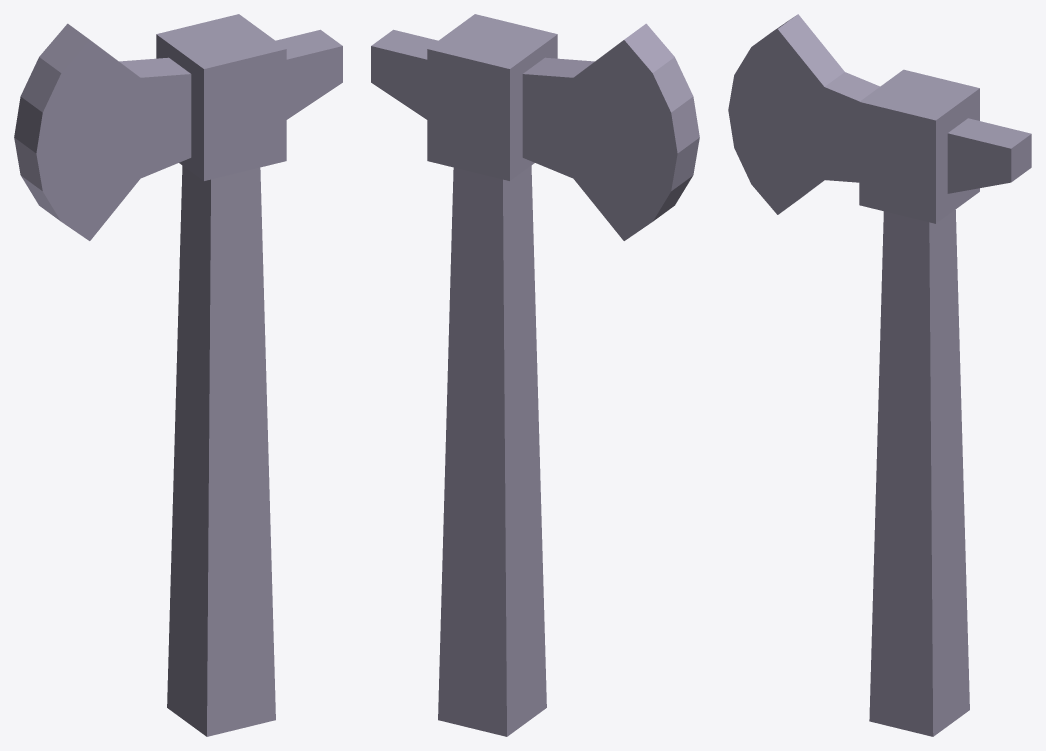
Rendered from tool-axe.obj.
3 views of the same model, side by side, from view 1: azimuth 30°, elevation 25°; view 2: azimuth 150°, elevation 25°; view 3: azimuth 330°, elevation 25° (orthographic). The views are drawn at different scales.
Size of the model in its own units: 0.1145 by 0.256 by 0.0309.
